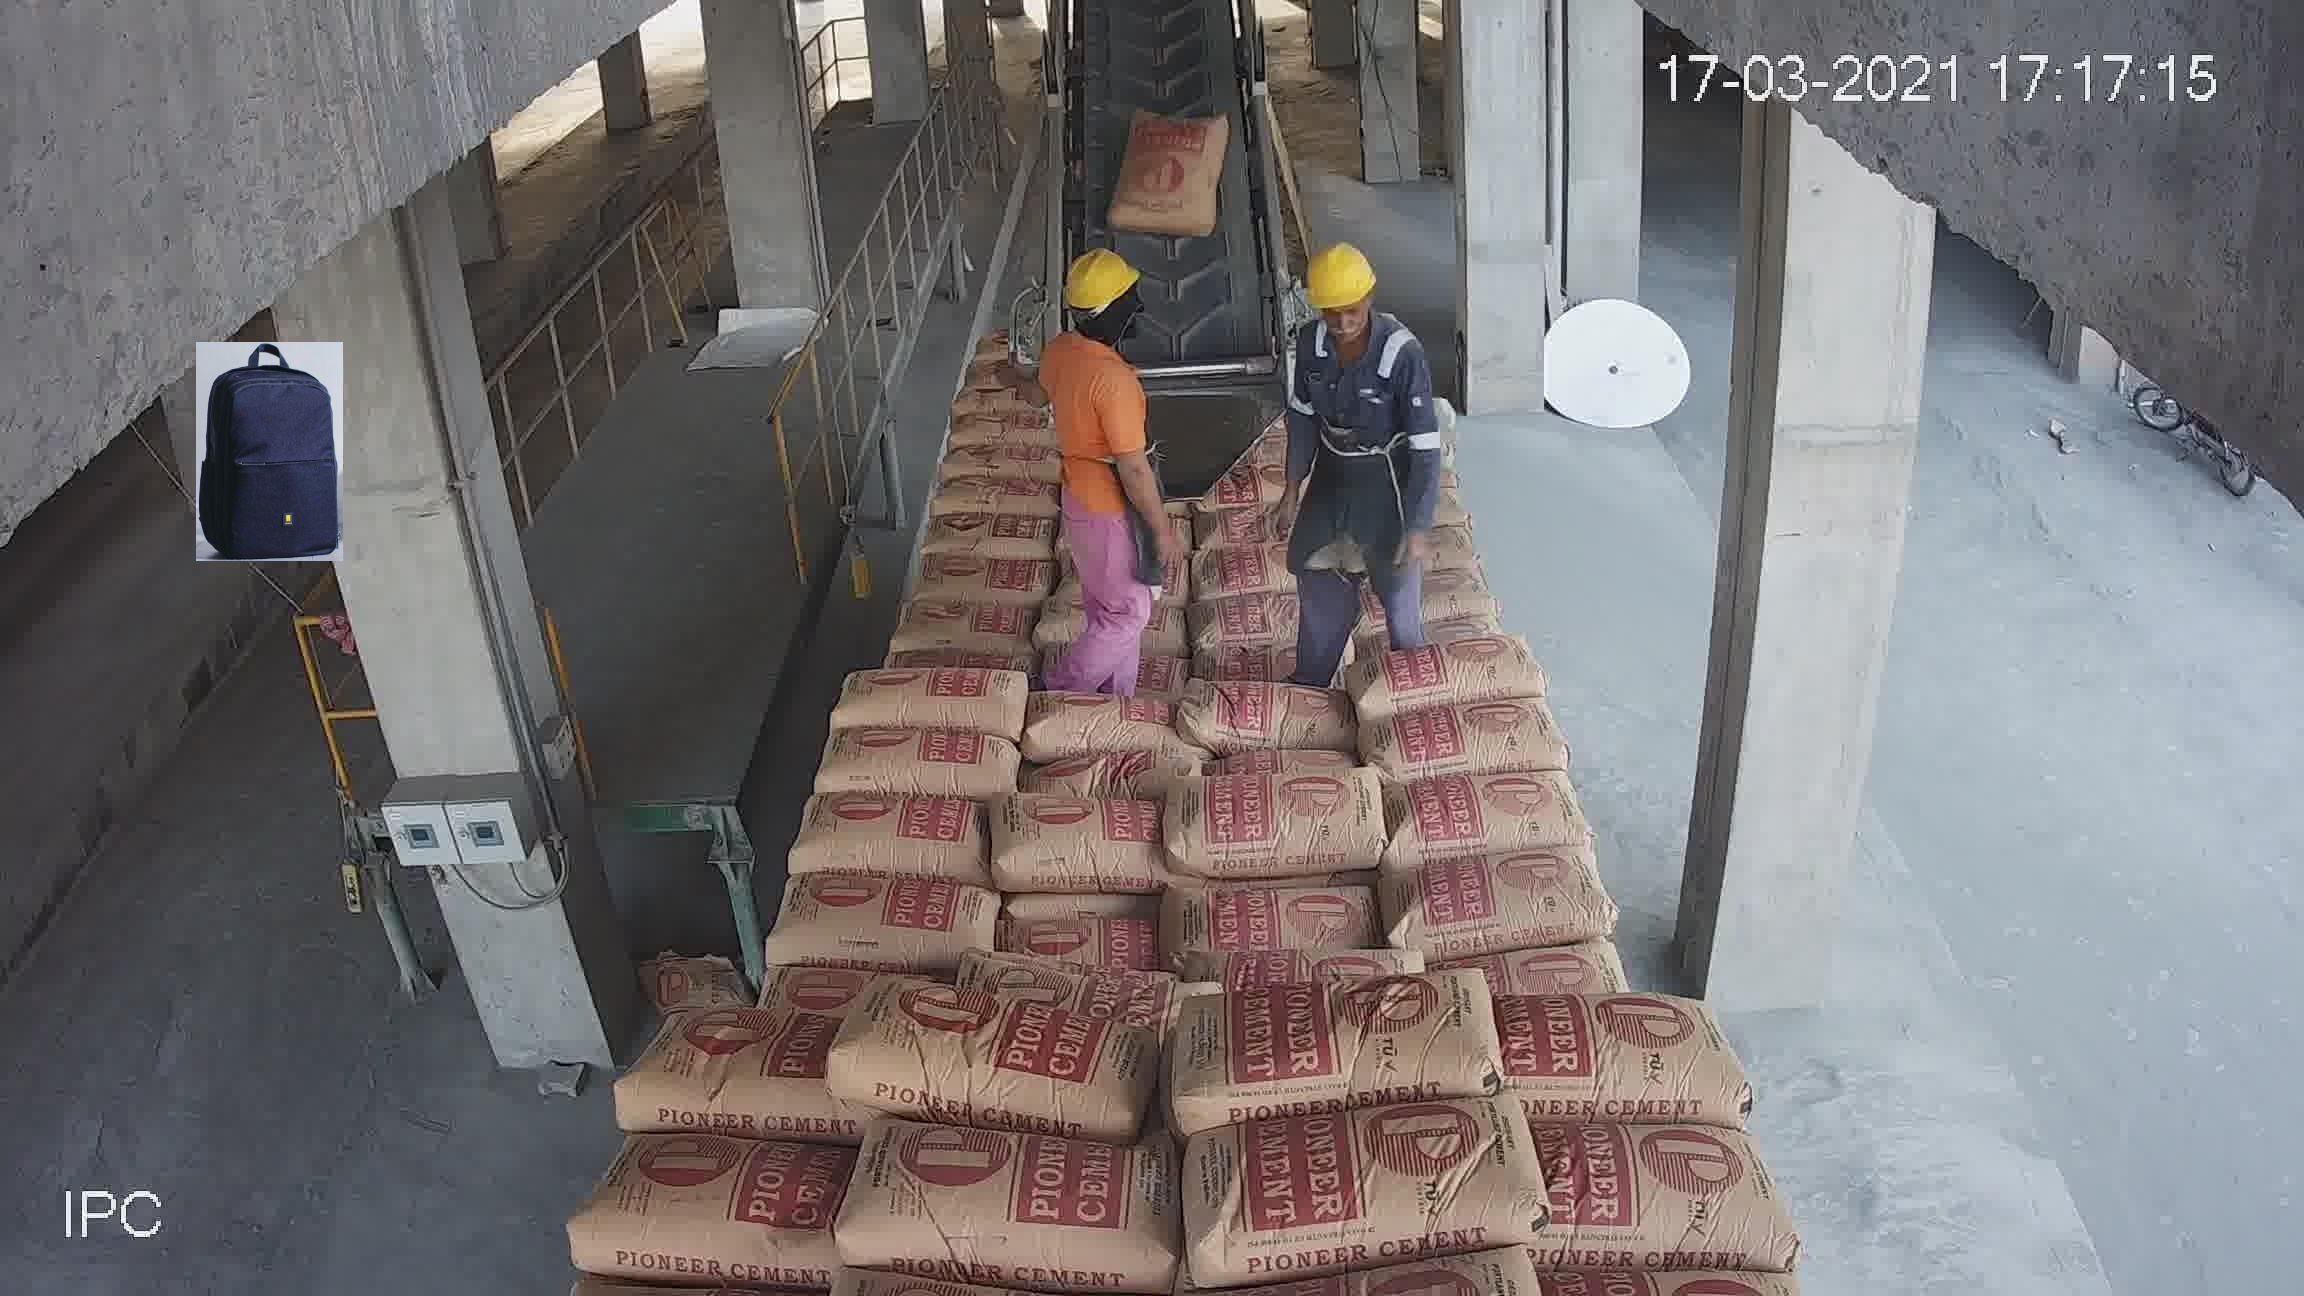bag: (1108, 116, 1223, 234)
bag_h: (1180, 1101, 1529, 1269), (1185, 965, 1514, 1128), (850, 1125, 1171, 1290), (805, 991, 1143, 1124), (578, 1131, 862, 1287), (1525, 1120, 1780, 1274), (1484, 991, 1734, 1128), (612, 1022, 840, 1144), (1176, 764, 1399, 877), (767, 877, 997, 975), (1385, 766, 1586, 869), (1377, 858, 1601, 949), (1169, 878, 1377, 975), (794, 786, 987, 883), (1375, 687, 1556, 783), (995, 798, 1163, 896), (813, 729, 1027, 802), (1343, 633, 1552, 706), (836, 657, 1027, 736), (1005, 888, 1171, 972), (1160, 680, 1348, 748), (1022, 687, 1177, 766), (970, 957, 1188, 1013), (888, 593, 1033, 655), (908, 546, 1044, 606), (934, 505, 1052, 570), (1184, 590, 1302, 655), (1180, 503, 1291, 570), (1184, 541, 1301, 597), (942, 464, 1043, 503)
belt: (1040, 43, 1298, 456)
